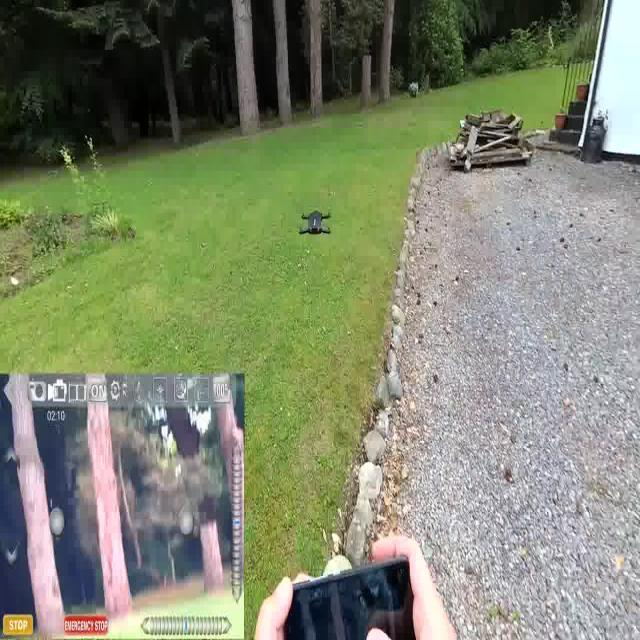Drone_FW: (297, 203, 335, 241)
